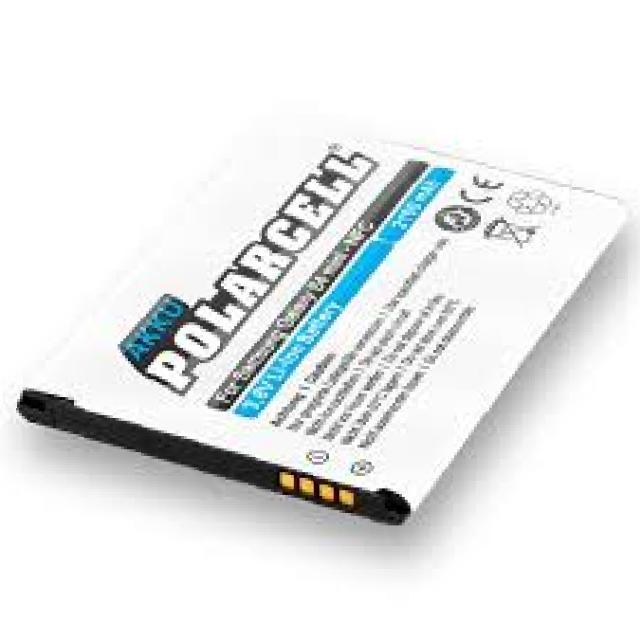Battery: (12, 114, 640, 538)
